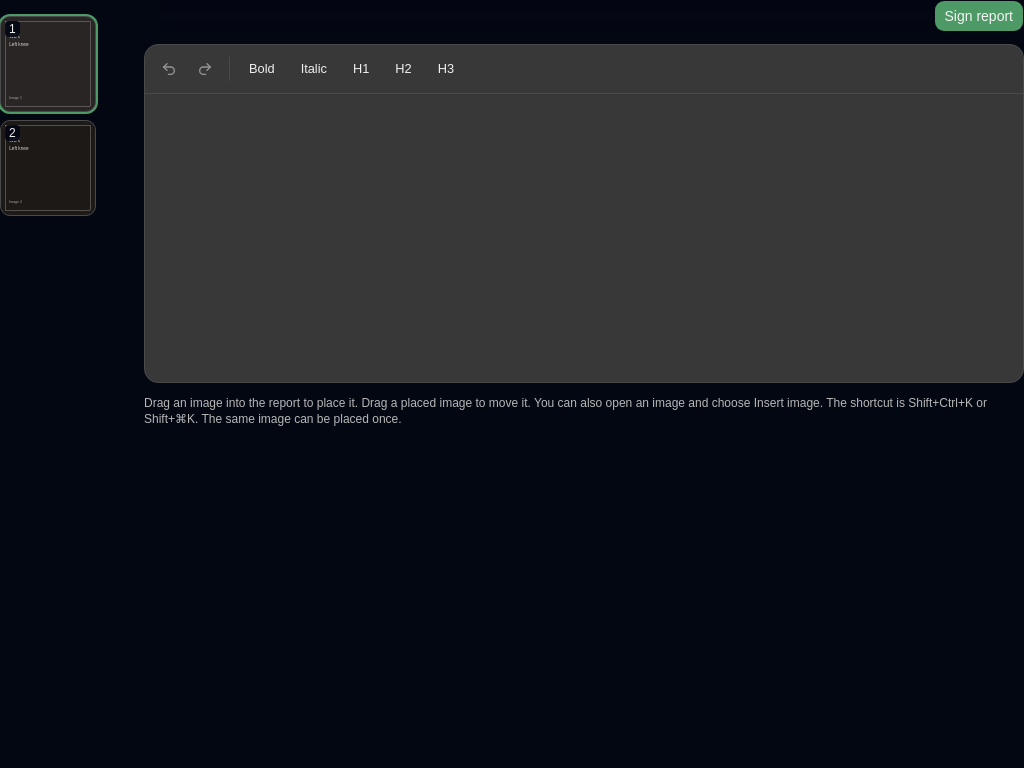
Test: inserts a key image and removes it
The image size is (1024, 768).
Later steps or results of the test are not shown.
Click the button named "Image 2": x=48, y=168 [0,120,96,216]
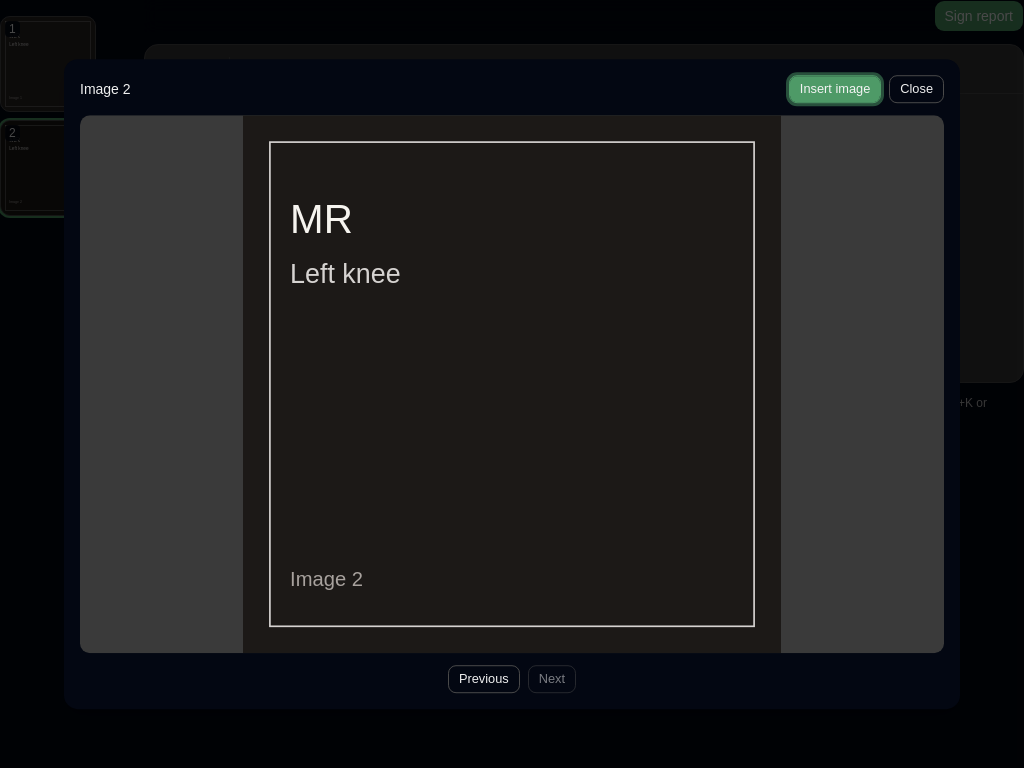
Expected: the dialog "Image 2" is shown
Expected: the button "Next" is disabled, [528,665,576,693]
Click the button "Previous": x=484, y=679 [448,665,520,693]
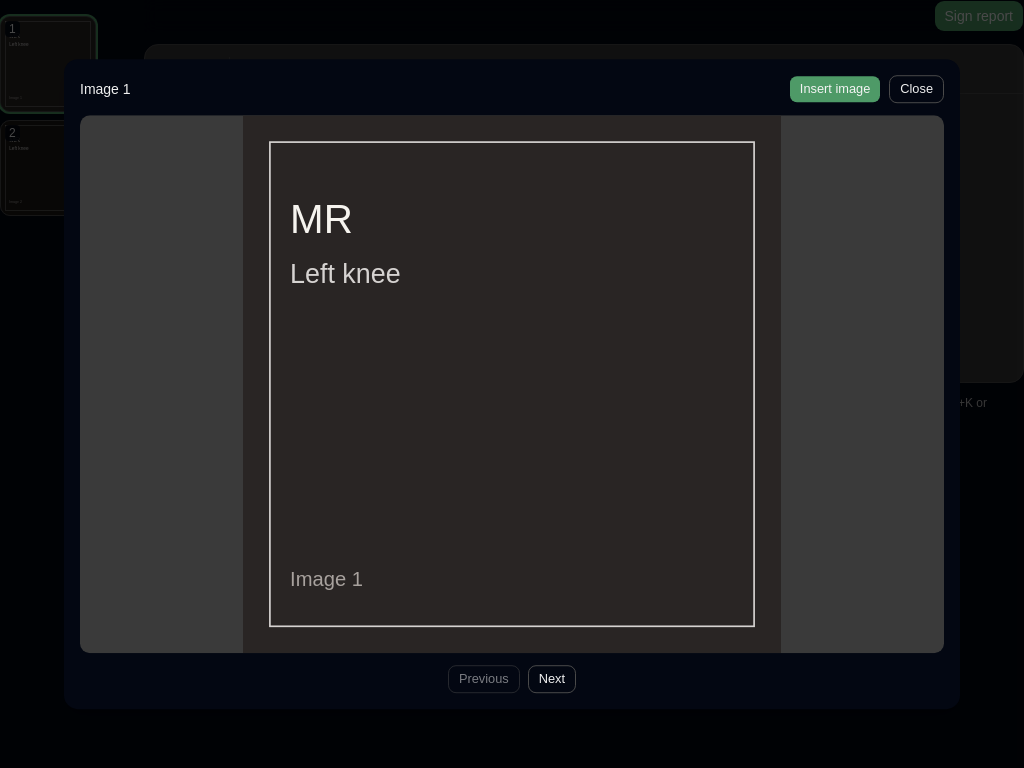
Expected: the dialog "Image 1" is shown
Expected: the button "Previous" is disabled, [448,665,520,693]
Click the button "Next": x=552, y=679 [528,665,576,693]
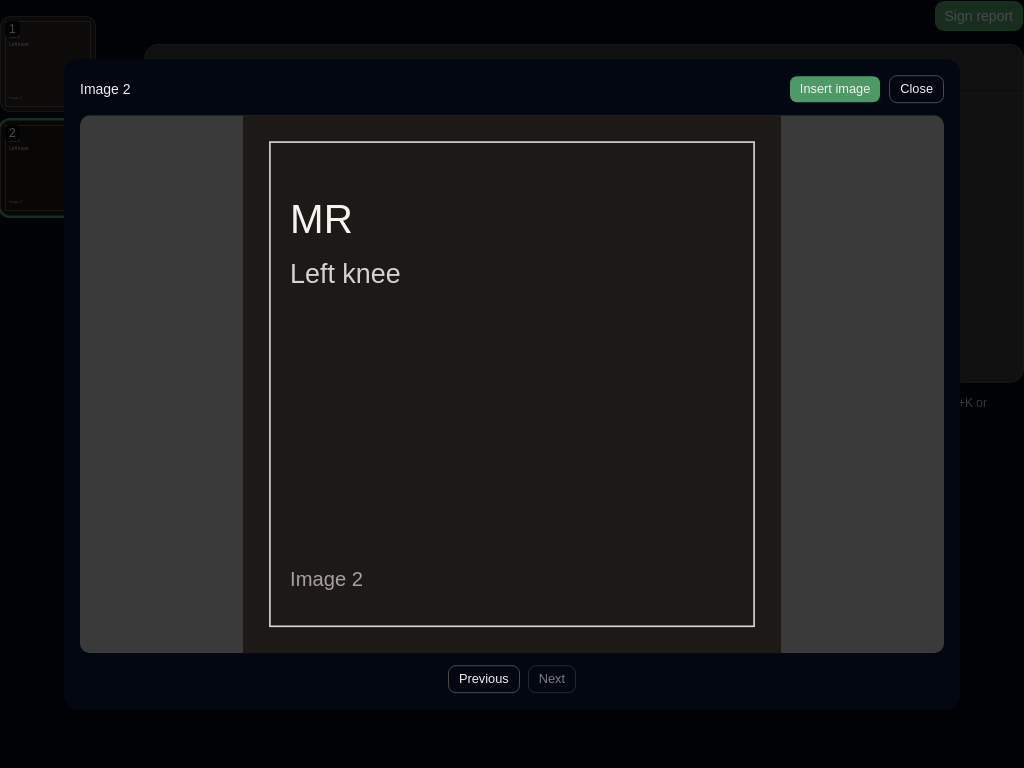
Click the button "Insert image": x=835, y=89 [789,75,881,103]
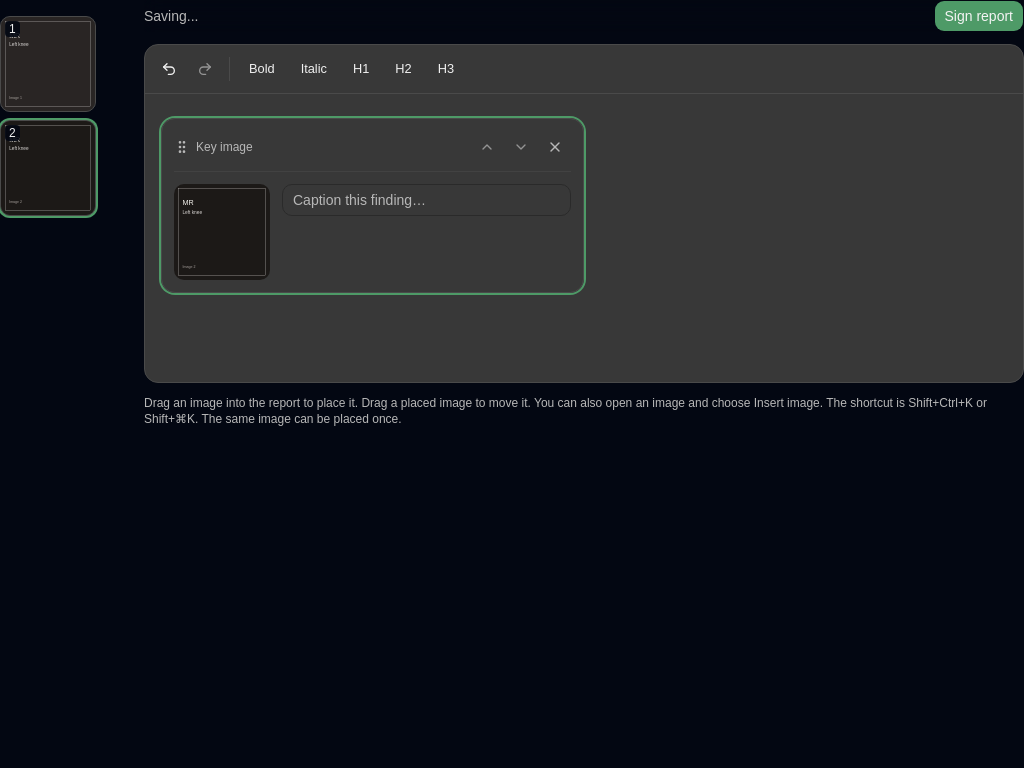
Expected: the dialog is gone
Expected: the field labelled "Caption" is shown, [282,184,571,216]
